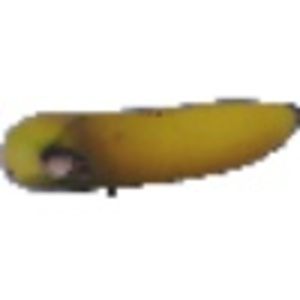banana: (2, 98, 299, 207)
